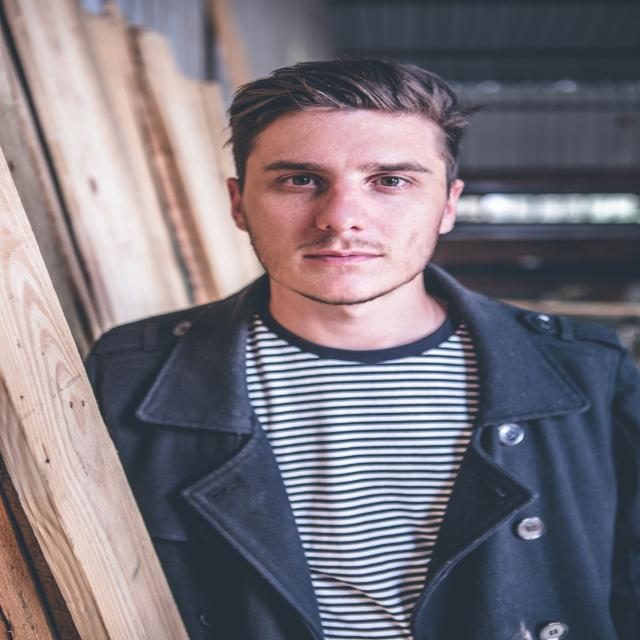human: (76, 55, 640, 640)
